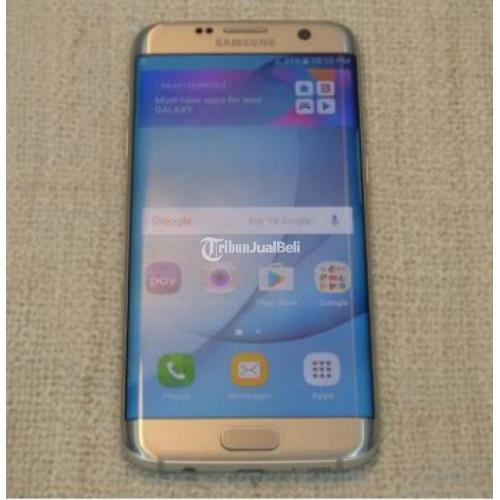Handphone: (119, 15, 382, 476)
